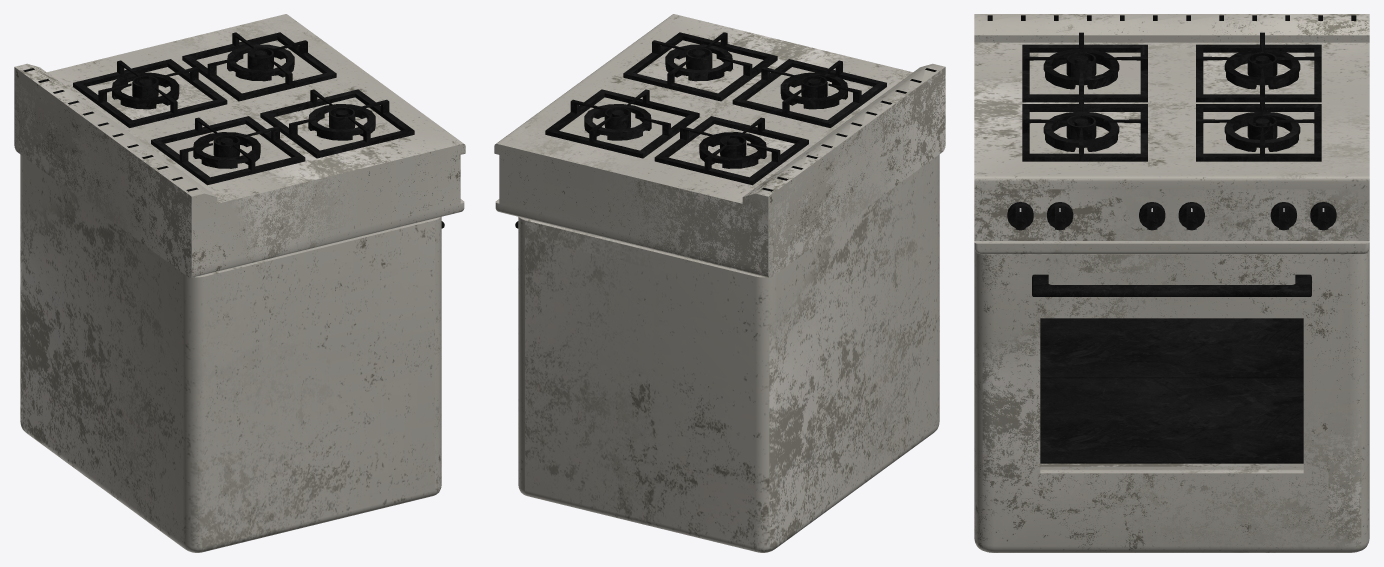
File: stove.obj
3 views of the same model, side by side, from view 1: azimuth 30°, elevation 25°; view 2: azimuth 150°, elevation 25°; view 3: azimuth 270°, elevation 25° (orthographic). The views are drawn at different scales.
Parts seen in each view (by area): view 1: stove_2, stove_1, stove_door; view 2: stove_2, stove_1, stove_door; view 3: stove_door, stove_1, baking_tray_3, baking_tray_2, stove_2, burner_6, burner_3, burner_4, burner_1, burner_5, burner_2.
Part boxes in pixels (bbox=[...]): stove_2: bbox=[20, 154, 434, 552]; stove_1: bbox=[14, 14, 465, 277]; stove_door: bbox=[433, 217, 444, 495]; stove_2: bbox=[525, 154, 939, 552]; stove_1: bbox=[494, 14, 945, 277]; stove_door: bbox=[515, 217, 526, 495]; stove_door: bbox=[974, 248, 1369, 552]; stove_1: bbox=[974, 14, 1369, 254]; baking_tray_3: bbox=[1040, 378, 1303, 463]; baking_tray_2: bbox=[1040, 318, 1303, 378]; stove_2: bbox=[1040, 463, 1303, 466]; burner_6: bbox=[1310, 202, 1336, 230]; burner_3: bbox=[1139, 202, 1165, 230]; burner_4: bbox=[1178, 202, 1204, 230]; burner_1: bbox=[1007, 202, 1033, 230]; burner_5: bbox=[1270, 202, 1296, 230]; burner_2: bbox=[1047, 202, 1073, 230].
Size of the model in its own units: 1.09 by 1.36 by 1.2.
4 materials, 4 textured.
